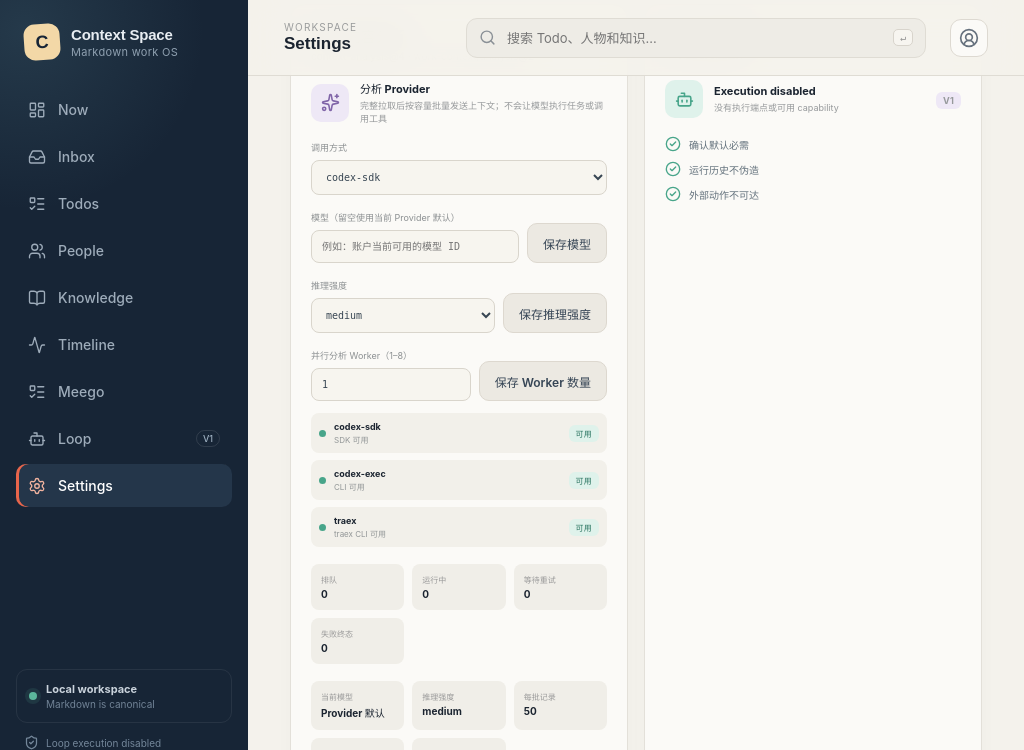
Test: Context Space workbench › configures parallel LLM Worker count
The width and height of the screenshot is (1024, 750).
(page scrolled)
Replace the text in the number field named "LLM Worker 数量" with "3" at (391, 385), box [311,368,471,401]
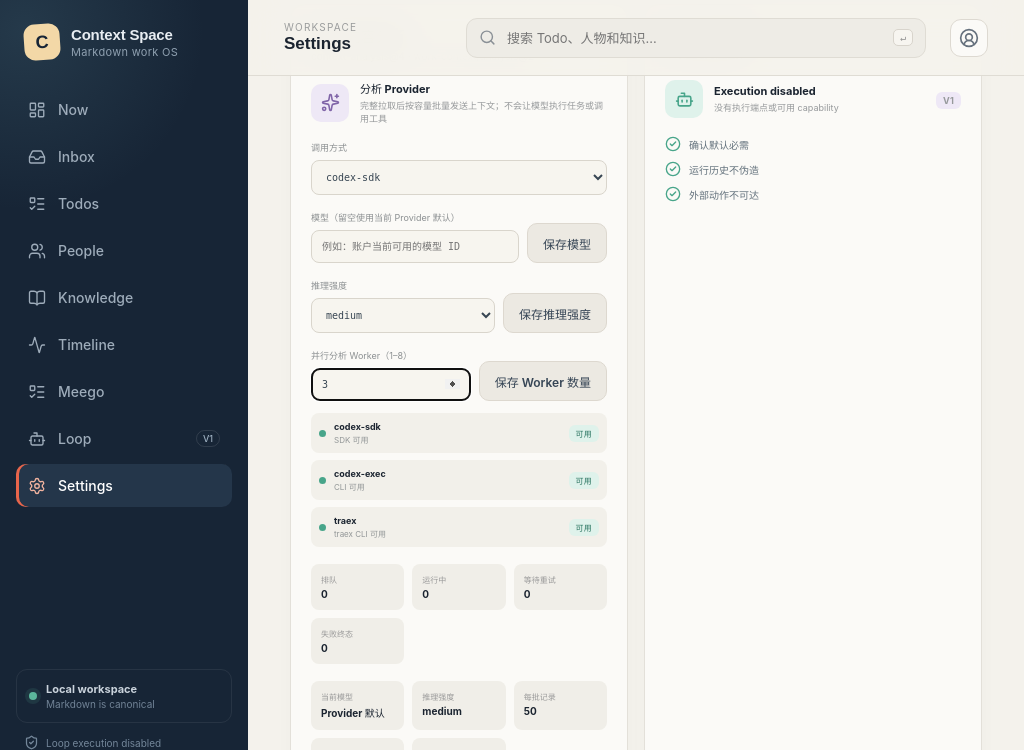
Click the button "保存 Worker 数量" at (543, 381), box [479,361,607,401]
(page scrolled)
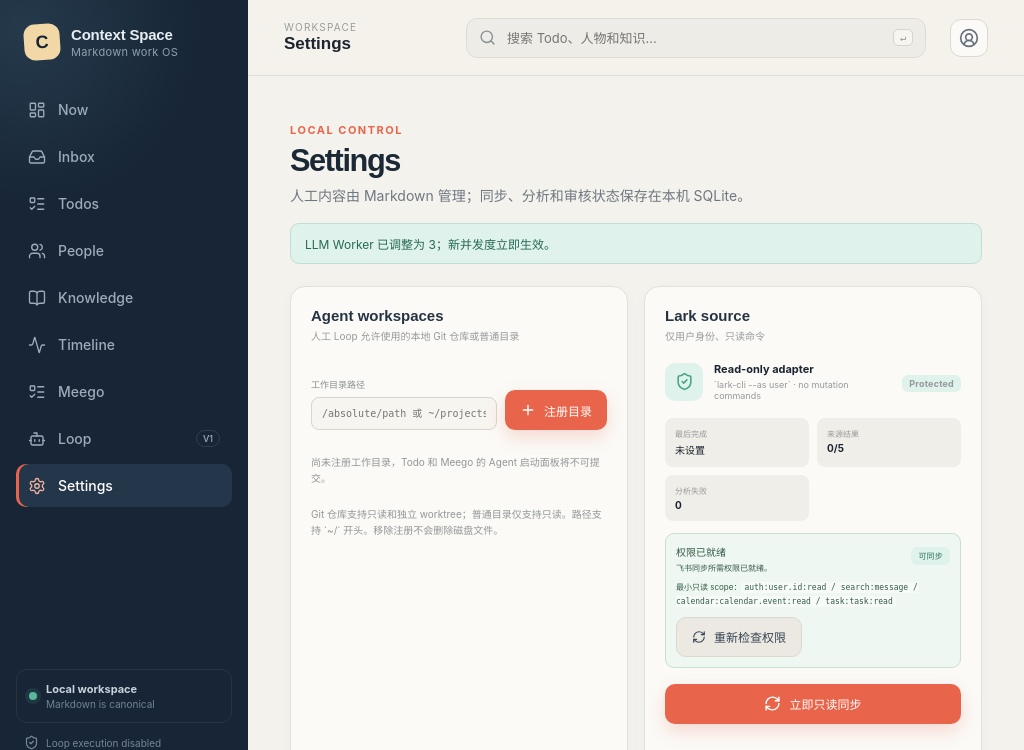
Check: the text "LLM Worker 已调整为 3；新并发度立即生效。" is shown, box [290,223,982,264]
